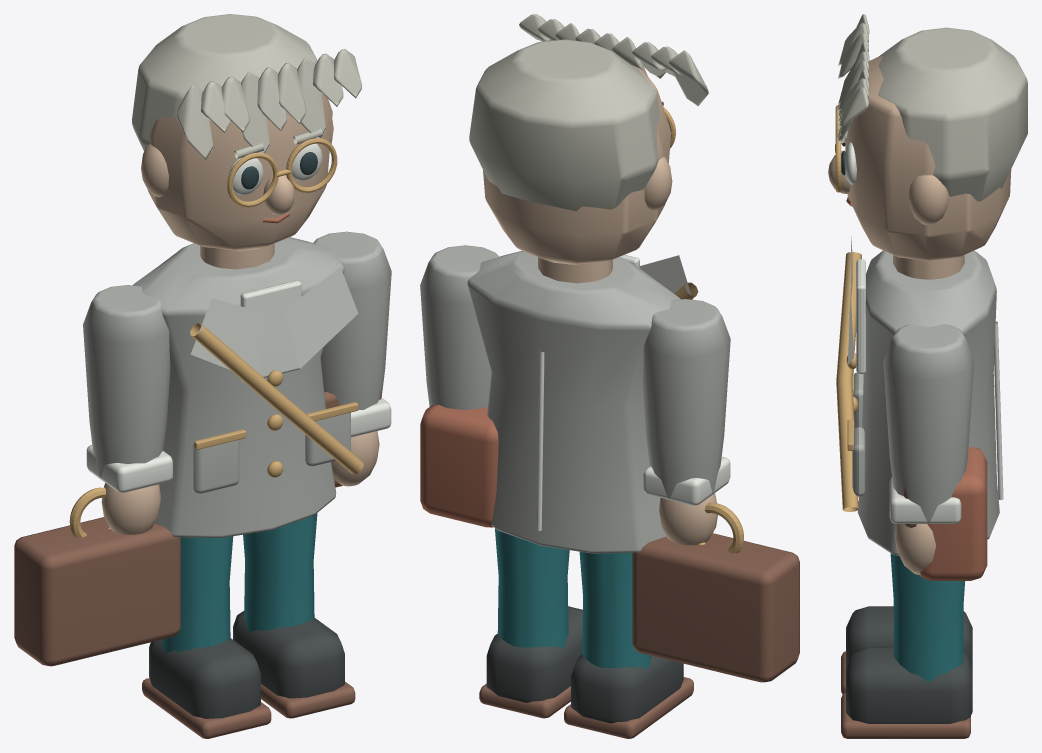
File: lan.glb
The picture shows the model from 3 angles, left to right: view 1: azimuth 30°, elevation 25°; view 2: azimuth 150°, elevation 25°; view 3: azimuth 270°, elevation 25°; orthographic projection.
Parts seen in each view (by area): view 1: Coat.001_batch, Hair.001_batch, Walnut.001_batch.002, Skin.001_batch, Coat.001_batch.001, Shirt.001_batch, Coat.001_batch.002, Accessory.001_batch, Enamel teal.001_batch.001, Boots.001_batch, Boots.001_batch.001, Enamel teal.001_batch (+7 smaller); view 2: Coat.001_batch, Hair.001_batch, Walnut.001_batch.002, Coat.001_batch.001, Skin.001_batch, Coat.001_batch.002, Oxide leather.001_batch, Enamel teal.001_batch.001, Enamel teal.001_batch, Boots.001_batch, Boots.001_batch.001, Shirt.001_batch (+5 smaller); view 3: Hair.001_batch, Coat.001_batch, Skin.001_batch, Coat.001_batch.002, Boots.001_batch.001, Enamel teal.001_batch.001, Oxide leather.001_batch, Accessory.001_batch, Shirt.001_batch, Boots.001_batch, Walnut.001_batch.001, Shirt.001_batch.002 (+1 smaller).
Boxes of the visible parts, x1,y1,x2,y2 form: Coat.001_batch: [133, 237, 350, 538]; Hair.001_batch: [132, 14, 361, 159]; Walnut.001_batch.002: [14, 389, 381, 666]; Skin.001_batch: [141, 71, 333, 269]; Coat.001_batch.001: [83, 285, 170, 478]; Shirt.001_batch: [190, 143, 358, 381]; Coat.001_batch.002: [313, 231, 391, 409]; Accessory.001_batch: [69, 138, 363, 537]; Enamel teal.001_batch.001: [243, 513, 317, 632]; Boots.001_batch: [149, 638, 260, 718]; Boots.001_batch.001: [233, 611, 344, 698]; Enamel teal.001_batch: [161, 536, 233, 653]; Coat.001_batch: [467, 250, 680, 553]; Hair.001_batch: [469, 14, 708, 211]; Walnut.001_batch.002: [632, 533, 799, 682]; Coat.001_batch.001: [642, 299, 730, 499]; Skin.001_batch: [483, 65, 672, 283]; Coat.001_batch.002: [420, 245, 498, 410]; Oxide leather.001_batch: [420, 405, 498, 527]; Enamel teal.001_batch.001: [495, 528, 569, 648]; Enamel teal.001_batch: [579, 551, 651, 669]; Boots.001_batch: [571, 654, 683, 723]; Boots.001_batch.001: [486, 606, 582, 702]; Shirt.001_batch: [536, 254, 691, 530]; Hair.001_batch: [838, 14, 1027, 201]; Coat.001_batch: [852, 250, 999, 556]; Skin.001_batch: [828, 56, 1011, 279]; Coat.001_batch.002: [883, 324, 974, 523]; Boots.001_batch.001: [846, 647, 972, 723]; Enamel teal.001_batch.001: [890, 553, 965, 682]; Oxide leather.001_batch: [846, 197, 987, 580]; Accessory.001_batch: [835, 105, 861, 511]; Shirt.001_batch: [845, 142, 1003, 499]; Boots.001_batch: [846, 606, 972, 668]; Walnut.001_batch.001: [841, 692, 970, 738]; Shirt.001_batch.002: [889, 477, 961, 523].
Bounding box in the file's own units: 1.28 × 2.23 × 0.615.
